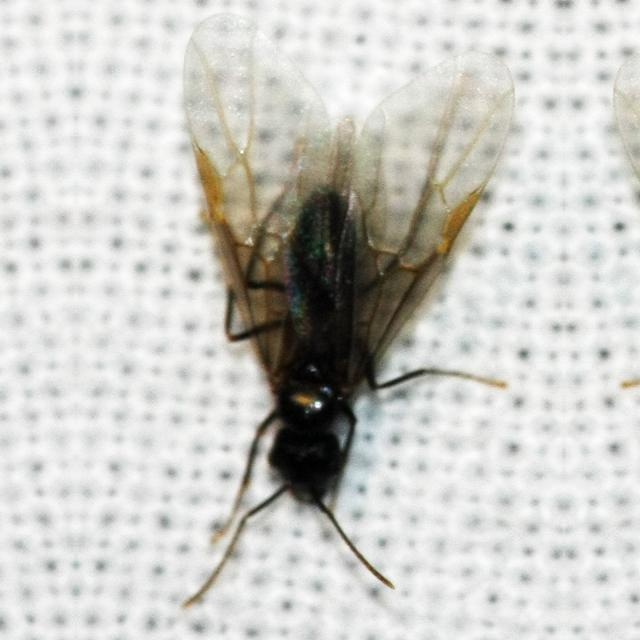Lasius: (173, 21, 557, 582)
